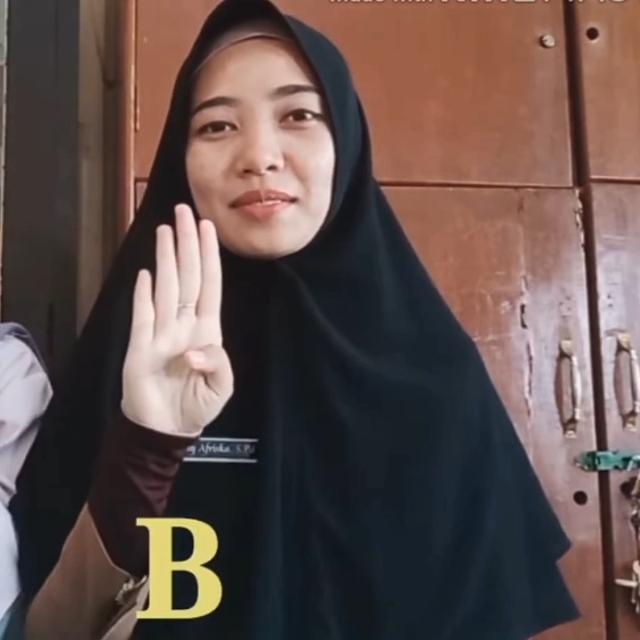B: (120, 203, 234, 435)
